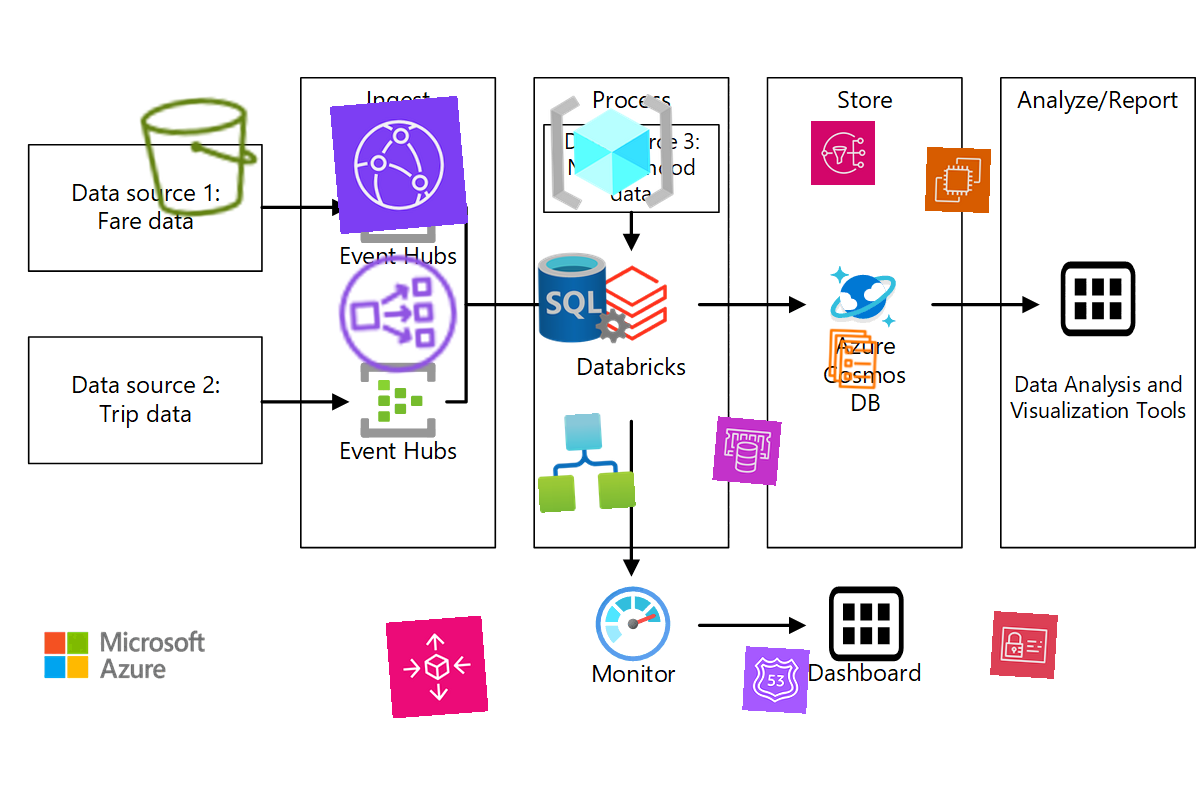aws_amazon_cloudfront: (329, 95, 469, 235)
aws_amazon_ec2: (924, 146, 992, 214)
aws_amazon_elasticache: (712, 416, 782, 486)
aws_amazon_route_53: (742, 646, 810, 714)
aws_amazon_simple_notification_service: (810, 120, 876, 186)
aws_auto_scaling: (385, 615, 489, 719)
aws_elastic_container_service_service: (819, 325, 887, 393)
aws_elastic_load_balancing_network_load_balancer: (330, 246, 466, 382)
aws_identity_and_access_management: (990, 611, 1058, 679)
aws_simple_storage_service_bucket: (130, 87, 270, 227)
azure_logic_apps: (534, 411, 636, 513)
azure_resource_groups: (546, 86, 678, 218)
azure_sql_server: (535, 249, 633, 347)
